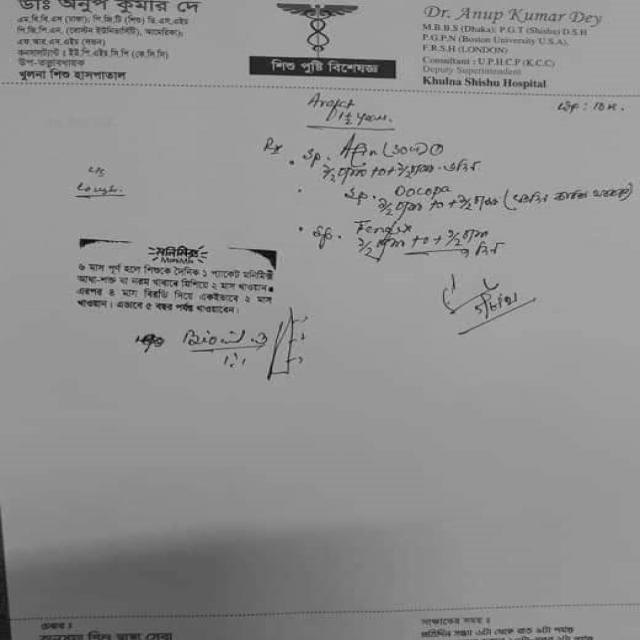medicine: (332, 134, 384, 162), (389, 181, 456, 201), (350, 217, 417, 237)
